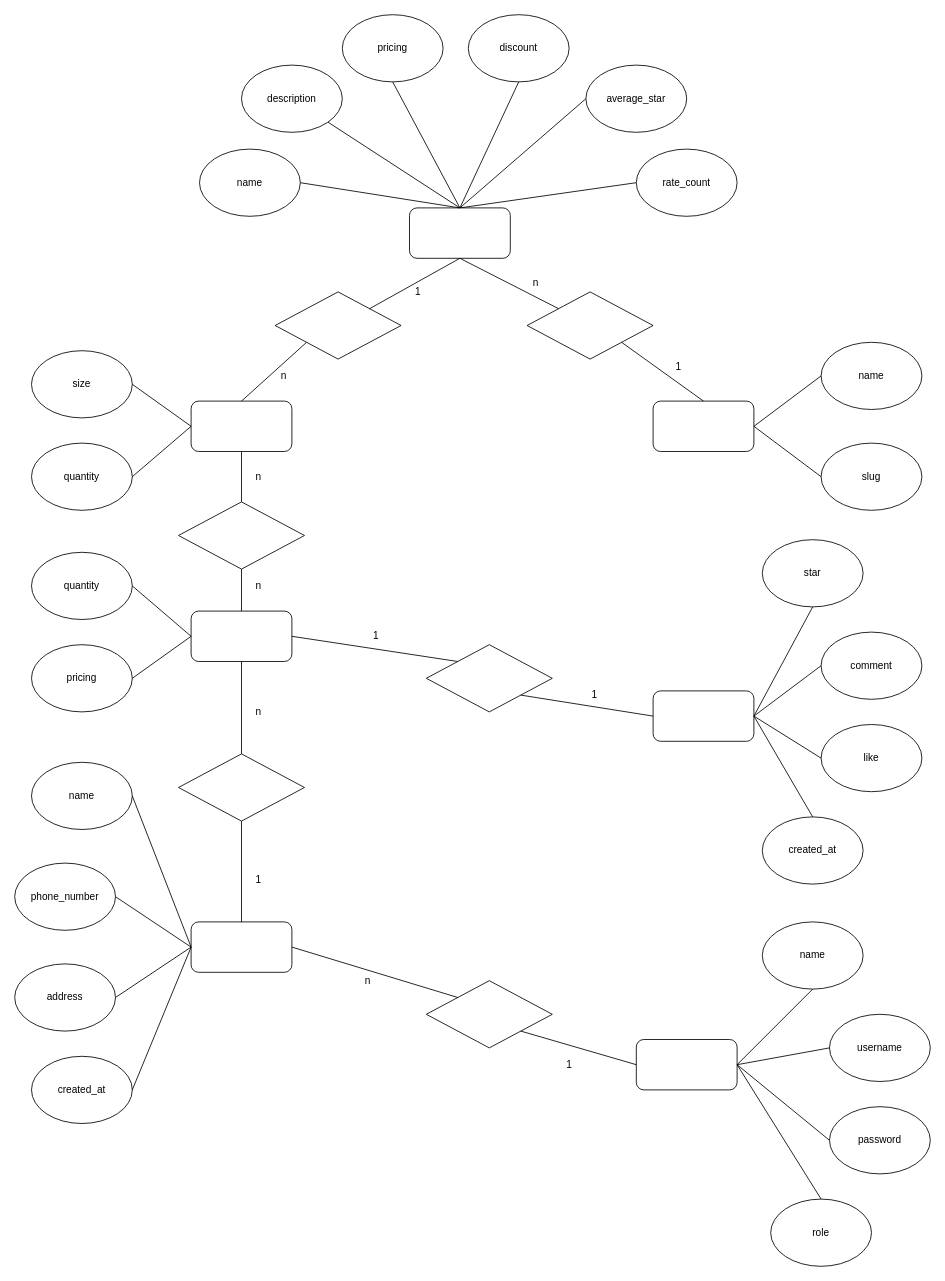
Some shapes in this 945 by 1281 pixel diagram are drawn without their labels. Each missing label, with the centre of its shape:
"Brand" belongs at [703,426].
"Option" belongs at [241,426].
"Order" belongs at [241,946].
"OrderItem" belongs at [241,636].
"Product" belongs at [459,232].
"Rate" belongs at [703,715].
"User" belongs at [686,1064].
